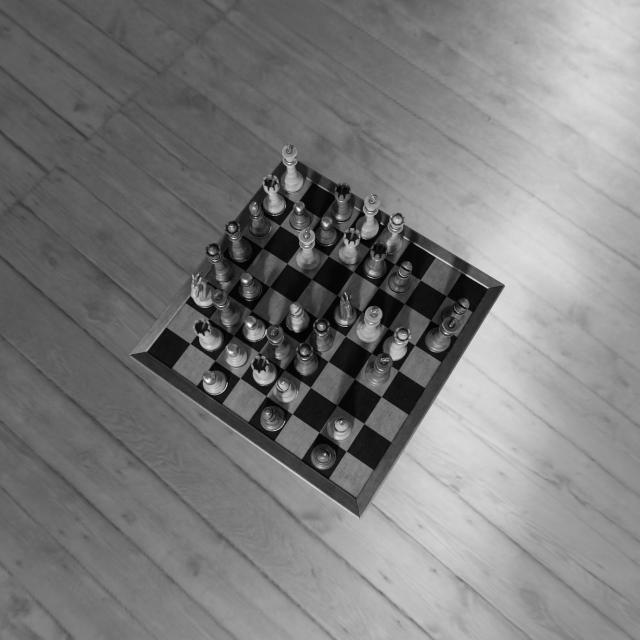chessboard: (150, 170, 488, 496)
